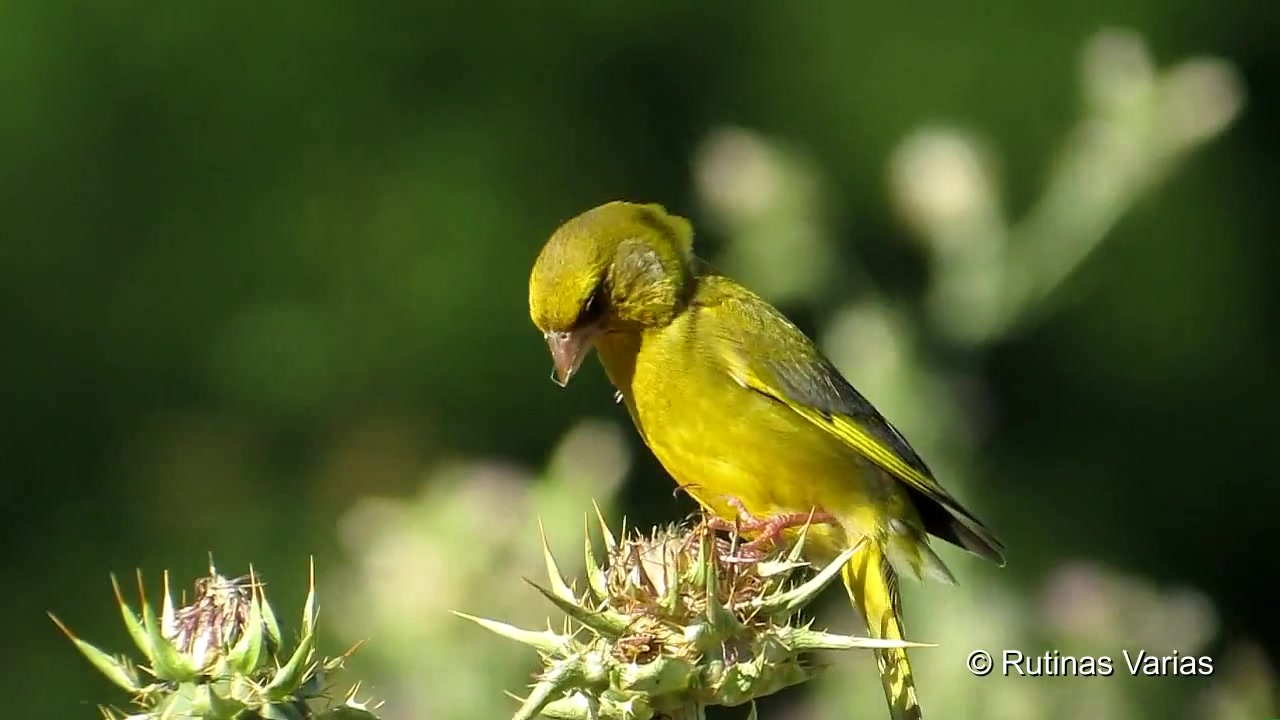bird: (528, 202, 1008, 718)
